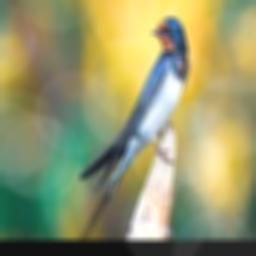Swallow: (79, 16, 188, 240)
